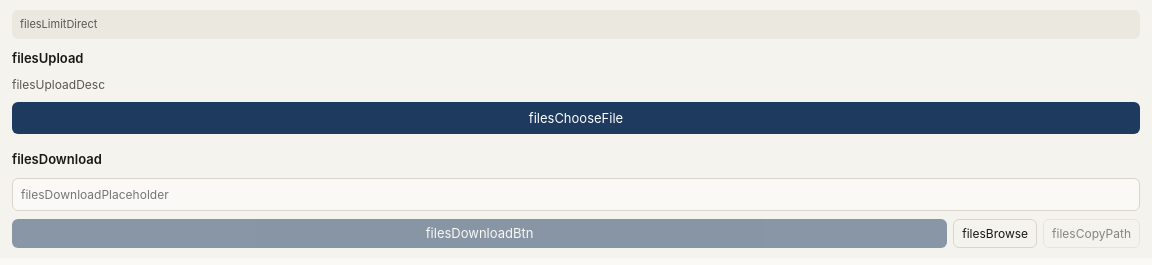
Test: FilesPanel 下载 › FilesPanel_ClearPathButton_1
Type ".cc-box-files/a.jpg" into the field with class "dl-input" at (576, 194), box [12,178,1140,210]
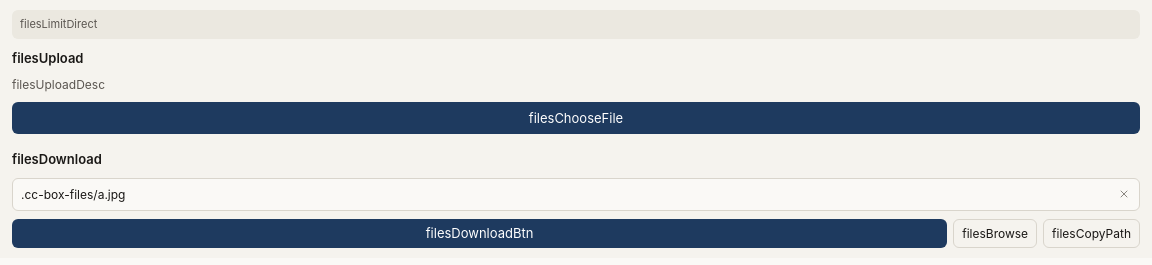
Now the button with class "clear-btn" is shown
点击 × 清空输入并隐藏按钮
Click the button with class "clear-btn" at (1124, 194), box [1113,183,1135,205]
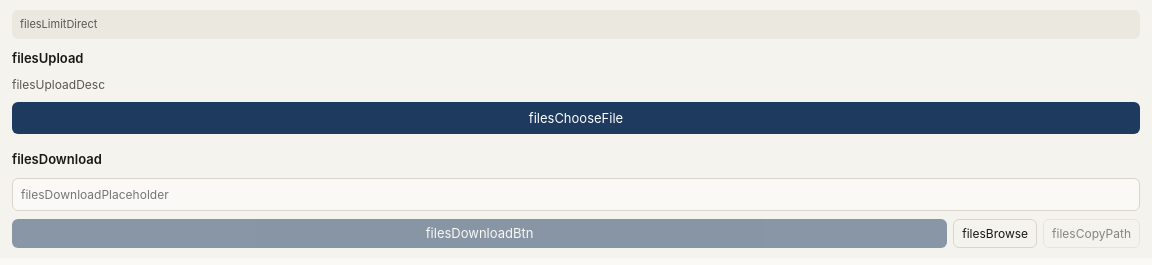
Now the field with class "dl-input" is empty, box [12,178,1140,210]
